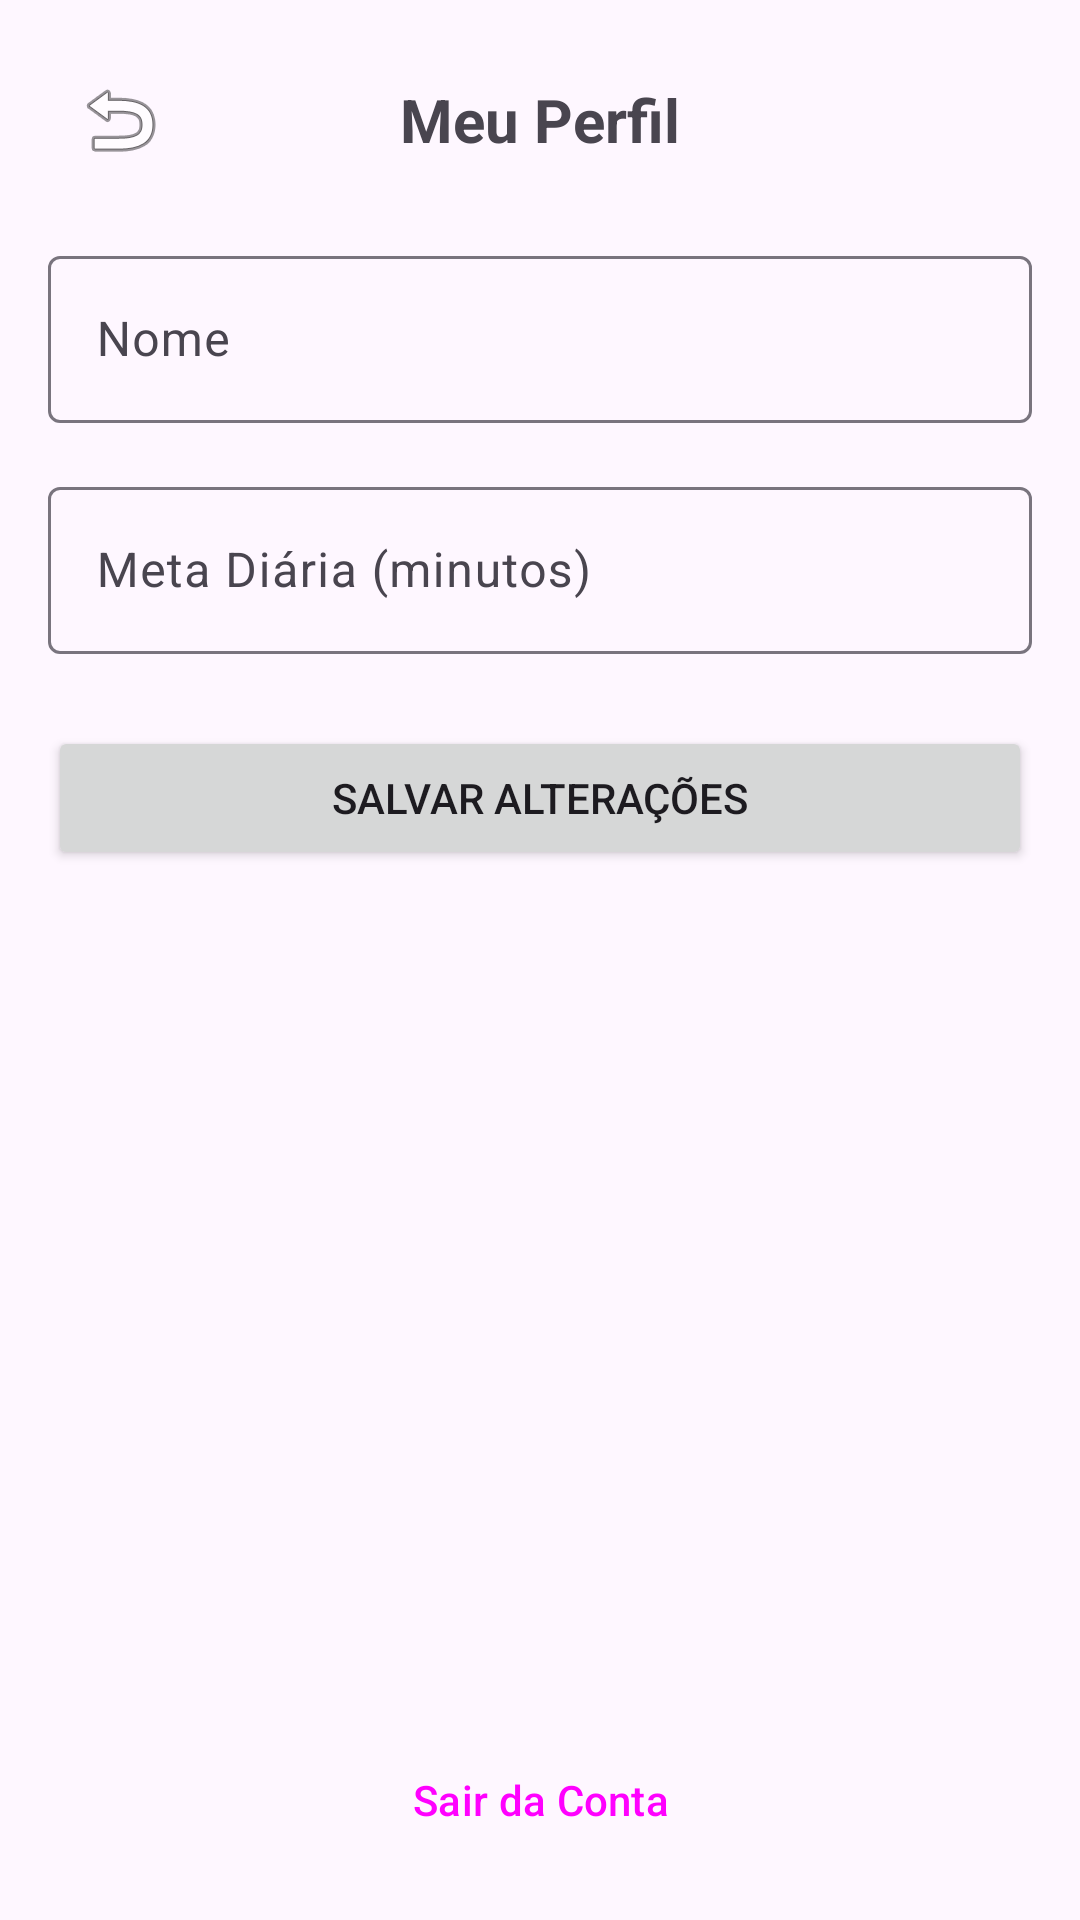

Icon click points for this 1080px×1920px phone screenshot, format [x,y]:
Voltar: [121,120]
